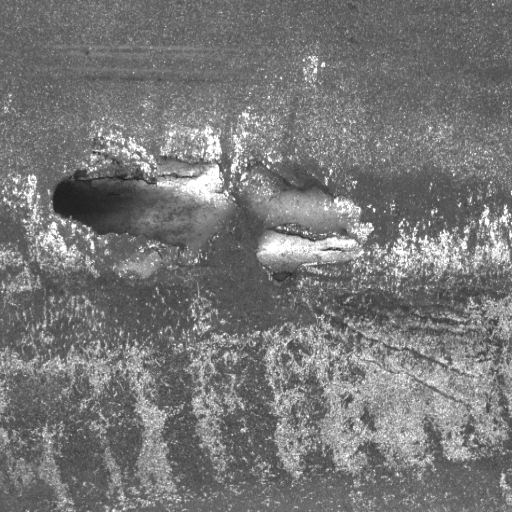qiaopi: (52, 161, 376, 273)
